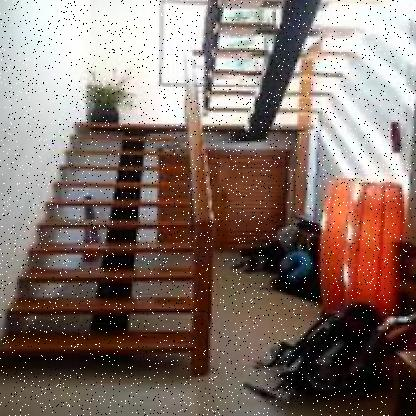stair_up: (0, 214, 218, 352)
